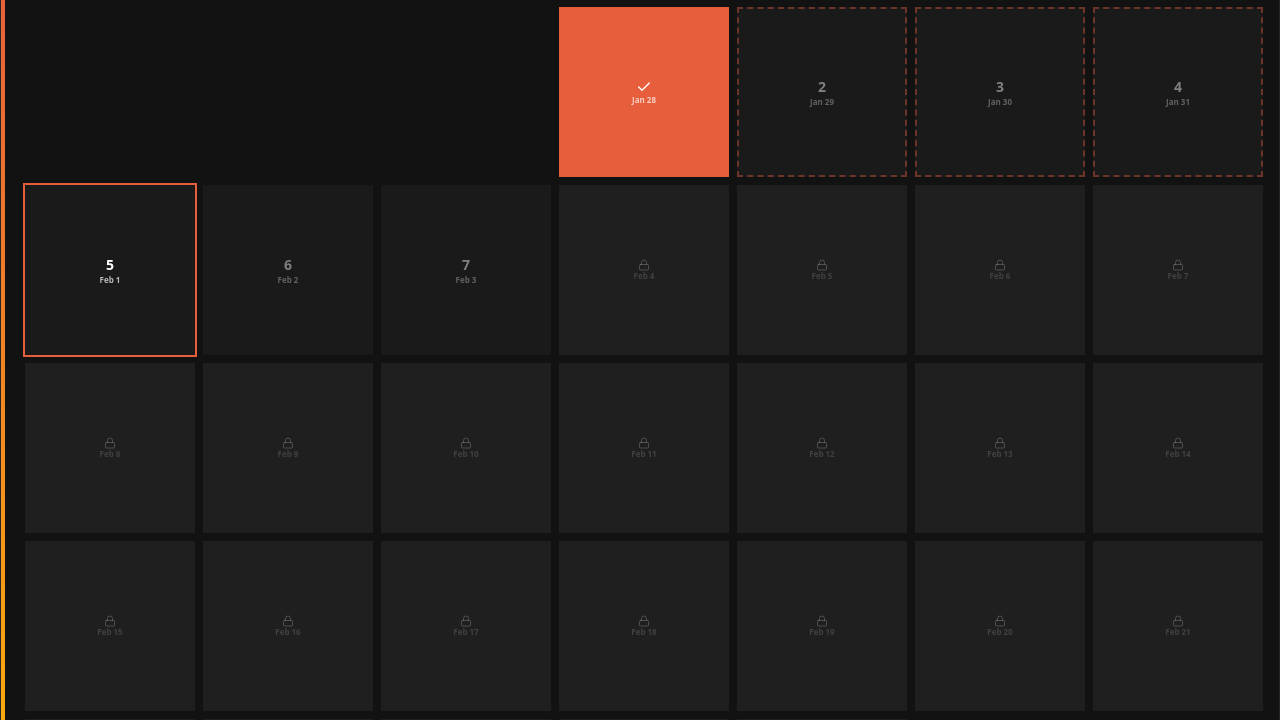
Test: CalendarTab › selected day details panel › shows feeling section when present
Click the button "Jan 28": [644, 92] box [559,7,729,177]
(page scrolled)
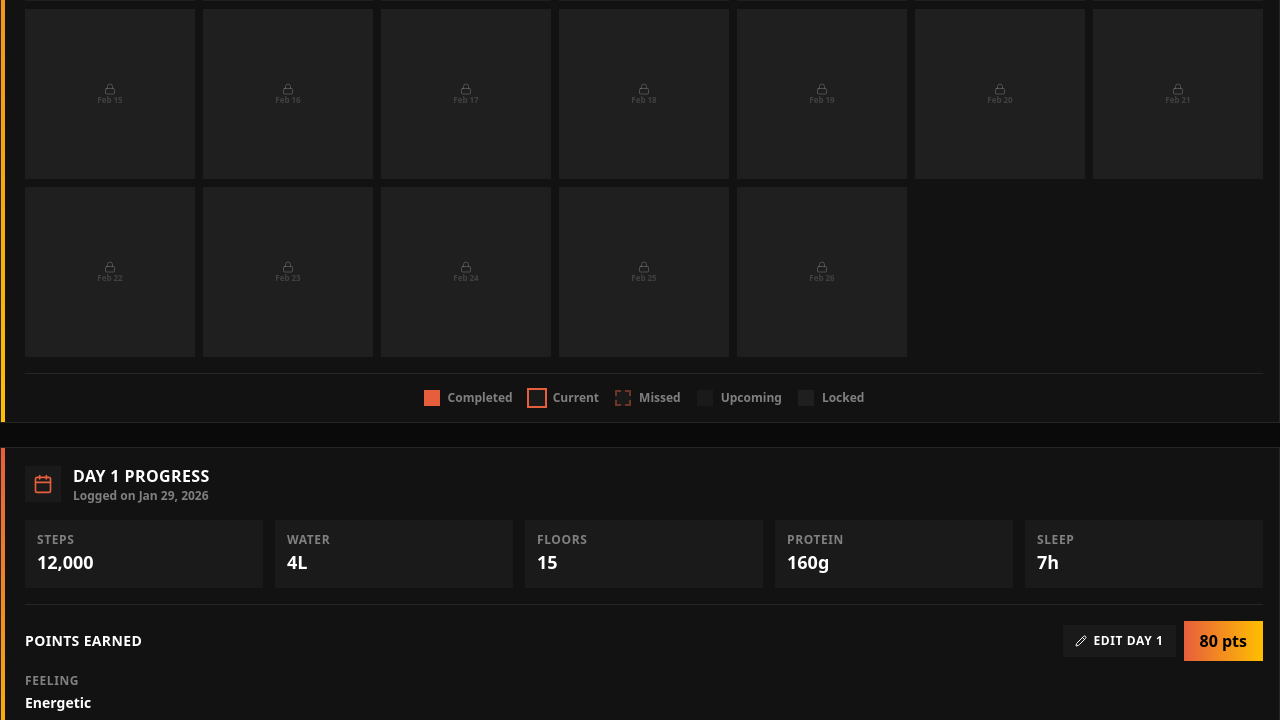
Now the text "Feeling" is shown, box [25,672,79,689]
Now the text "Energetic" is shown, box [25,693,91,712]
